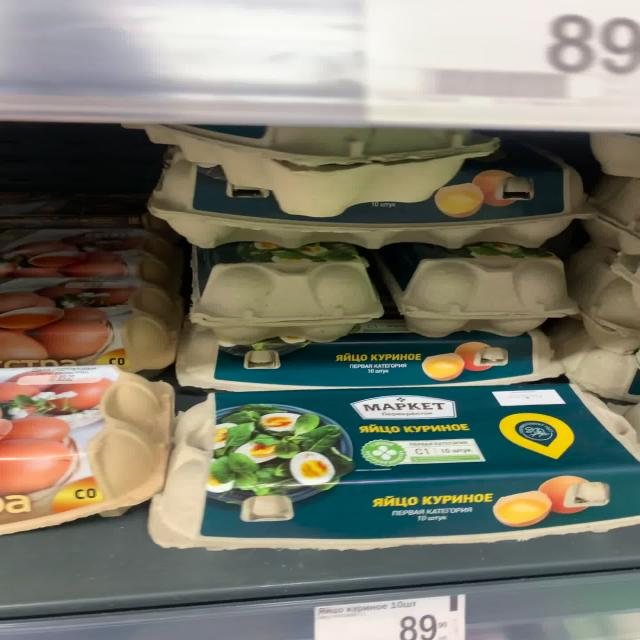egg box: (142, 381, 638, 553), (174, 333, 566, 392)
